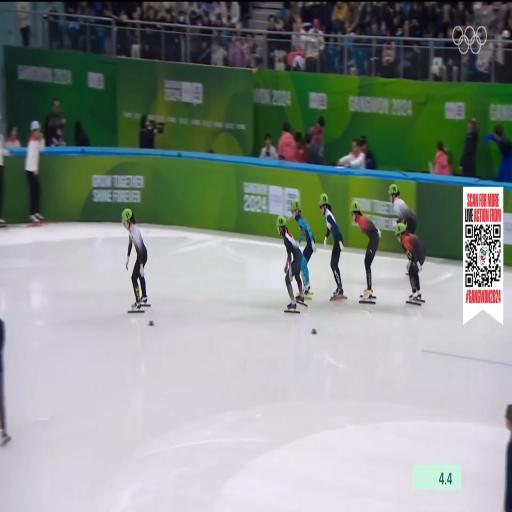Skater: (351, 201, 380, 301), (319, 194, 346, 300), (122, 209, 147, 310), (277, 216, 303, 311), (395, 223, 425, 303), (291, 200, 315, 294), (389, 184, 416, 234)
